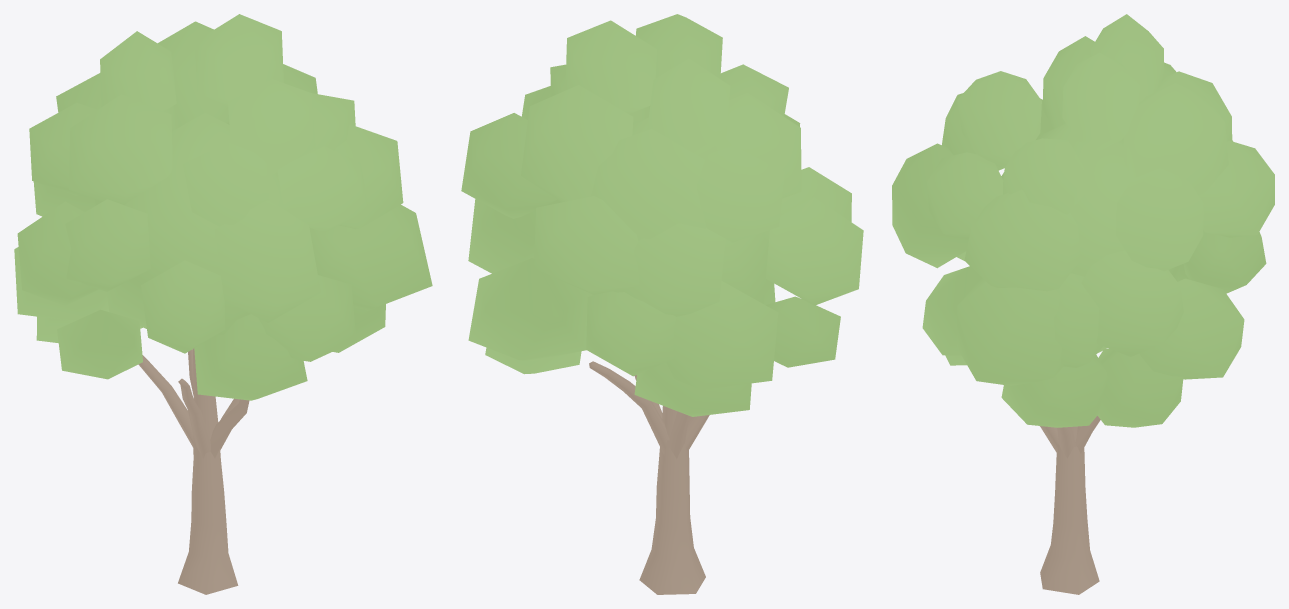
File: Blender_Maple_1_Far.glb
The picture shows the model from 3 angles, left to right: view 1: azimuth 30°, elevation 25°; view 2: azimuth 150°, elevation 25°; view 3: azimuth 270°, elevation 25°; orthographic projection. The views are drawn at different scales.
Parts seen in each view (by area): view 1: Blender_Maple_1_Far; view 2: Blender_Maple_1_Far; view 3: Blender_Maple_1_Far.
Boxes of the visible parts, <box> form: Blender_Maple_1_Far: <box>14,14,432,594</box>; Blender_Maple_1_Far: <box>461,14,863,594</box>; Blender_Maple_1_Far: <box>892,14,1274,594</box>.
Bounding box in the file's own units: 14.65 × 20.94 × 13.18.
